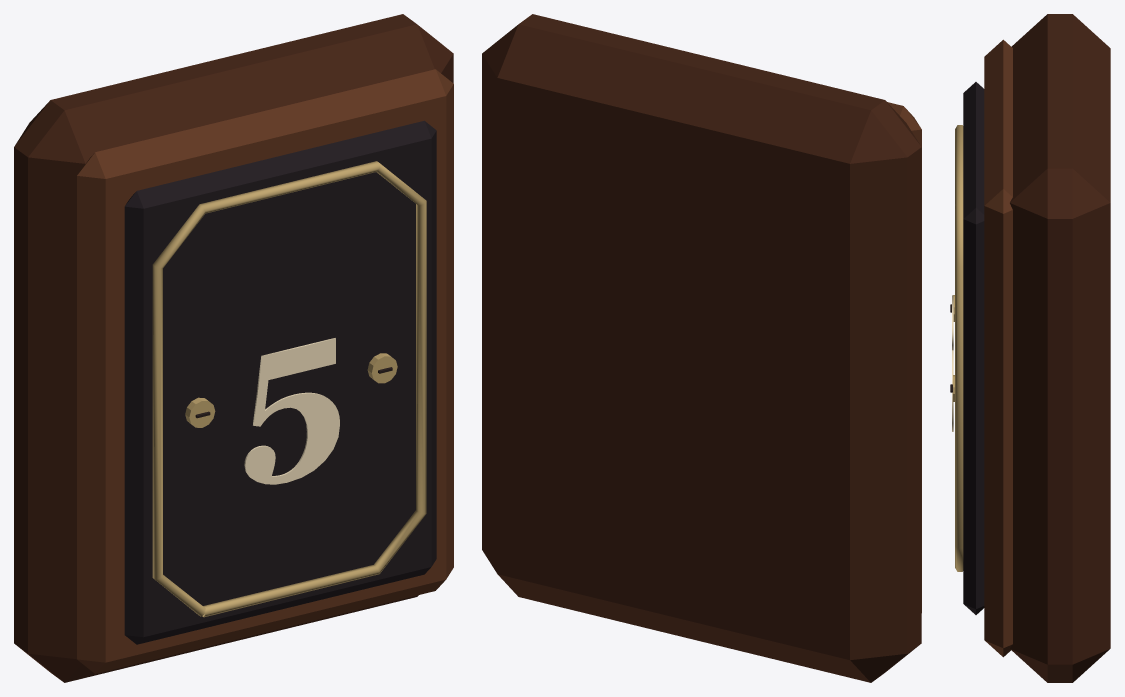
The model's file is BedroomNumber05.glb.
3 renders of one model, left to right at view 1: azimuth 30°, elevation 25°; view 2: azimuth 150°, elevation 25°; view 3: azimuth 270°, elevation 25°, orthographic. The views are drawn at different scales.
Parts seen in each view (by area): view 1: EnamelFace.011, BevelledOak.011, OakMoulding.011, GoldCartouche.011, Lettering_5, FlushBrassFixing.023, FlushBrassFixing.022; view 2: BevelledOak.011, OakMoulding.011; view 3: BevelledOak.011, OakMoulding.011, EnamelFace.011, GoldCartouche.011.
Part boxes in pixels (bbox=[...]): EnamelFace.011: bbox=[124, 120, 436, 644]; BevelledOak.011: bbox=[14, 14, 453, 682]; OakMoulding.011: bbox=[77, 69, 453, 673]; GoldCartouche.011: bbox=[152, 161, 426, 617]; Lettering_5: bbox=[244, 338, 339, 484]; FlushBrassFixing.023: bbox=[367, 353, 397, 383]; FlushBrassFixing.022: bbox=[185, 397, 215, 427]; BevelledOak.011: bbox=[482, 14, 921, 682]; OakMoulding.011: bbox=[887, 102, 921, 612]; BevelledOak.011: bbox=[1010, 14, 1110, 682]; OakMoulding.011: bbox=[984, 39, 1012, 657]; EnamelFace.011: bbox=[963, 82, 984, 614]; GoldCartouche.011: bbox=[955, 125, 963, 571].
Size of the model in its own units: 1.05 by 1.35 by 0.381.
